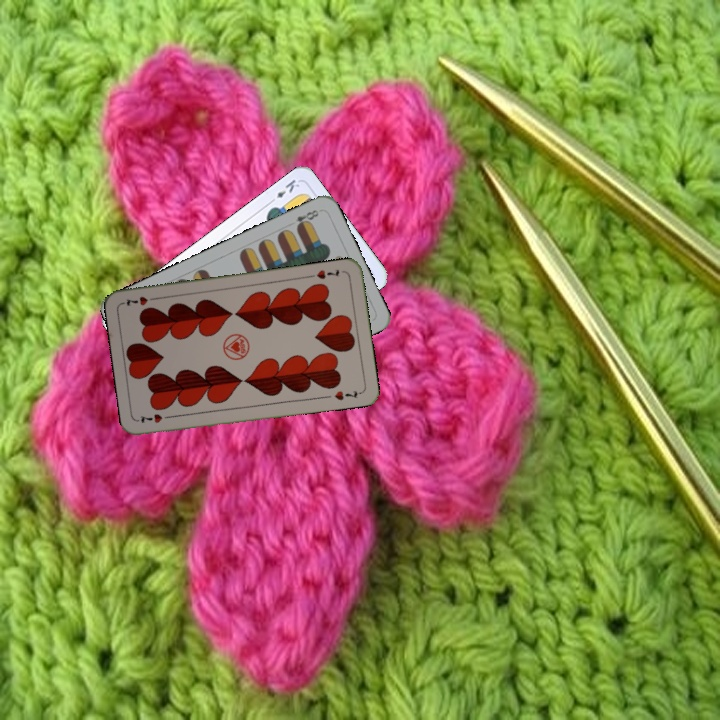E8: (292, 206, 321, 232)
EK: (265, 175, 302, 206)
H7: (137, 410, 176, 426), (313, 265, 342, 282)
